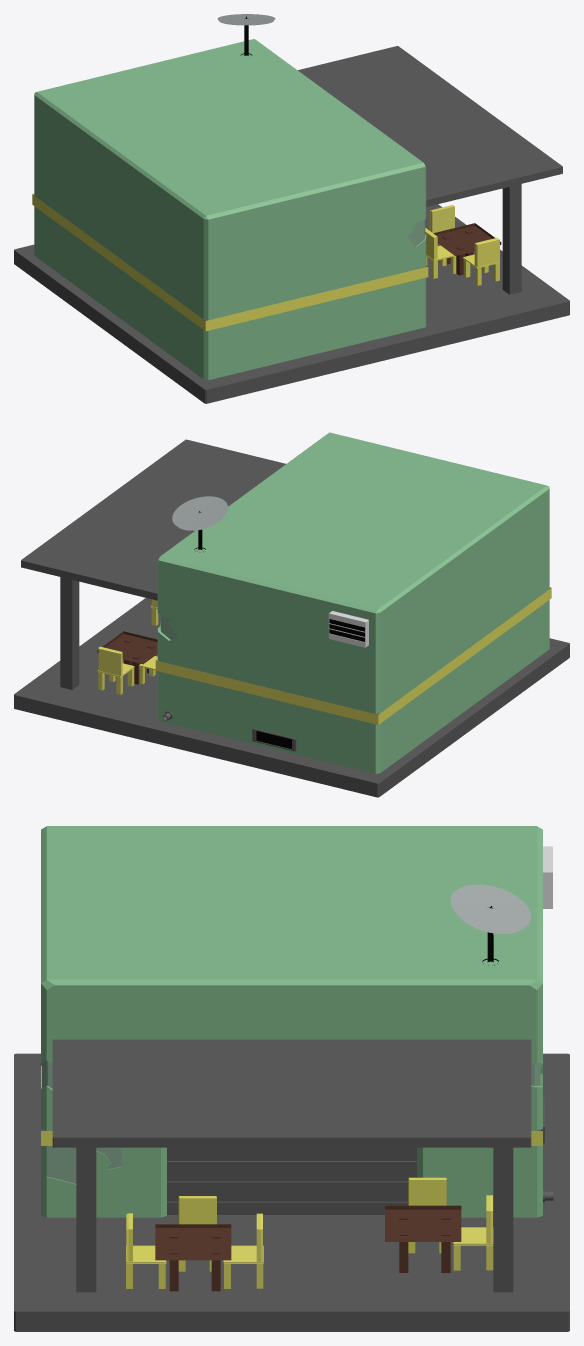
The model's file is Bar.fbx.
3 renders of one model, top to bottom at view 1: azimuth 30°, elevation 25°; view 2: azimuth 150°, elevation 25°; view 3: azimuth 270°, elevation 25°, orthographic. The views are drawn at different scales.
Visible parts, largest first — view 1: Cube, Floor, Floor.001, Cube.003, Cube.004, Cube.008, Floor.003, Floor.002, Metal, Floor.004; view 2: Cube, Floor, Floor.001, Cube.003, Cube.002, Metal, Cube.006, Floor.005, Air.002, Exit.001, Air.001; view 3: Cube, Floor, Floor.001, Cube.001, Cube.006, Cube.008, Metal, Cube.004, Cube.002, Cube.009, Floor.005, Floor.002 (+4 smaller).
Boxes of the visible parts, x1=… form: Cube: x1=34, y1=39, x2=426, y2=380; Floor: x1=14, y1=204, x2=569, y2=403; Floor.001: x1=298, y1=46, x2=562, y2=206; Cube.003: x1=32, y1=193, x2=428, y2=331; Cube.004: x1=502, y1=184, x2=521, y2=294; Cube.008: x1=433, y1=223, x2=501, y2=275; Floor.003: x1=463, y1=238, x2=499, y2=285; Floor.002: x1=425, y1=228, x2=456, y2=278; Metal: x1=217, y1=14, x2=275, y2=55; Floor.004: x1=429, y1=205, x2=454, y2=233; Cube: x1=157, y1=432, x2=549, y2=773; Floor: x1=14, y1=598, x2=569, y2=797; Floor.001: x1=21, y1=439, x2=285, y2=600; Cube.003: x1=155, y1=587, x2=551, y2=724; Cube.002: x1=60, y1=577, x2=79, y2=689; Metal: x1=172, y1=496, x2=227, y2=552; Cube.006: x1=97, y1=631, x2=157, y2=684; Floor.005: x1=97, y1=646, x2=134, y2=694; Air.002: x1=328, y1=611, x2=368, y2=647; Exit.001: x1=252, y1=728, x2=296, y2=751; Air.001: x1=329, y1=619, x2=364, y2=641; Cube: x1=41, y1=826, x2=542, y2=1217; Floor: x1=14, y1=1053, x2=569, y2=1331; Floor.001: x1=52, y1=1039, x2=531, y2=1147; Cube.001: x1=167, y1=1147, x2=416, y2=1214; Cube.006: x1=385, y1=1205, x2=461, y2=1272; Cube.008: x1=155, y1=1224, x2=231, y2=1291; Metal: x1=450, y1=884, x2=531, y2=965; Cube.004: x1=76, y1=1147, x2=96, y2=1292; Cube.002: x1=493, y1=1147, x2=513, y2=1292; Cube.009: x1=46, y1=1146, x2=122, y2=1183; Floor.005: x1=453, y1=1195, x2=493, y2=1270; Floor.002: x1=178, y1=1196, x2=216, y2=1271.
Bounding box in the file's own units: 1454 × 830 × 1303.
